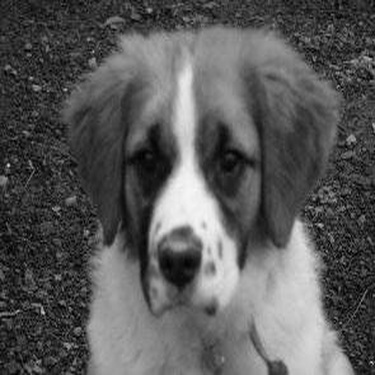dog: (62, 17, 360, 372)
